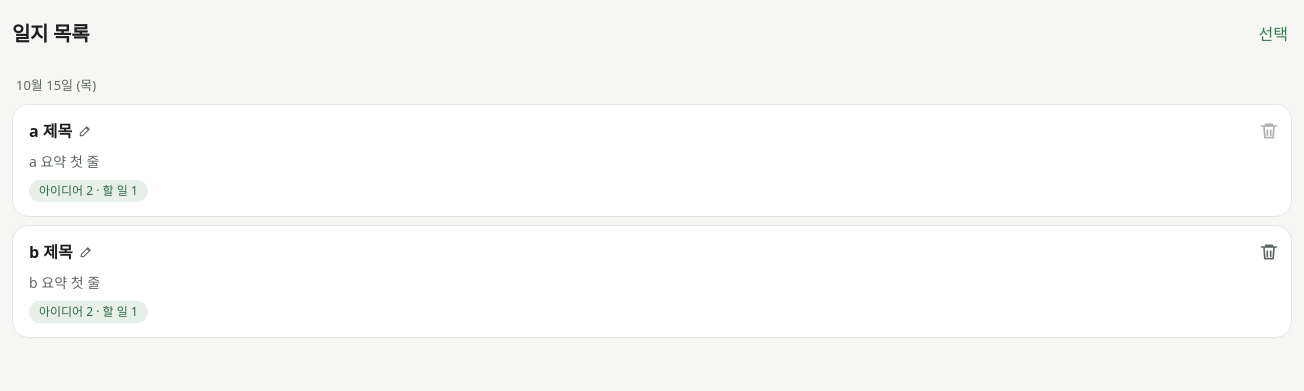
Test: JournalListScreen › 진행 중인 대화는 지울 수 없고, 삭제 실패는 알린다
Step 1. Click the button named "삭제: a 제목" → (1269, 130), box [1247,108,1291,152]
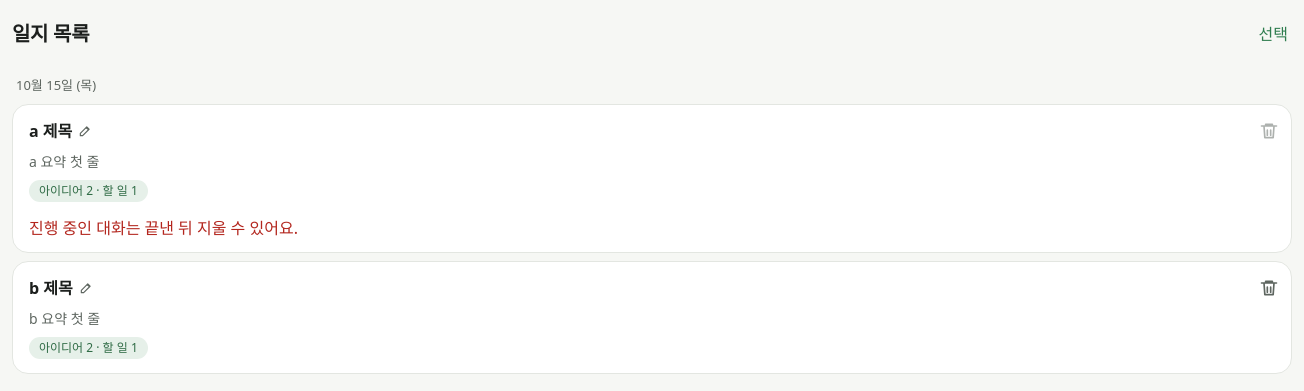
Expected: the message reads "진행 중인 대화는 끝낸 뒤 지울 수 있어요.", [29,216,298,238]
Step 2. Click the button named "삭제: b 제목" → (1269, 288), box [1247,266,1291,310]
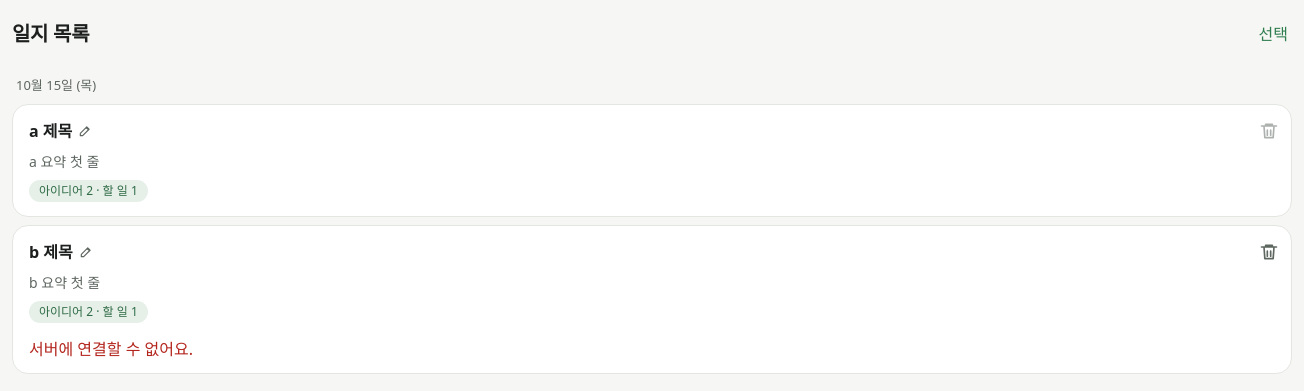
Expected: the text "b 제목" is shown, [29,240,73,264]
Expected: the message reads "서버에 연결할 수 없어요.", [29,338,193,360]
